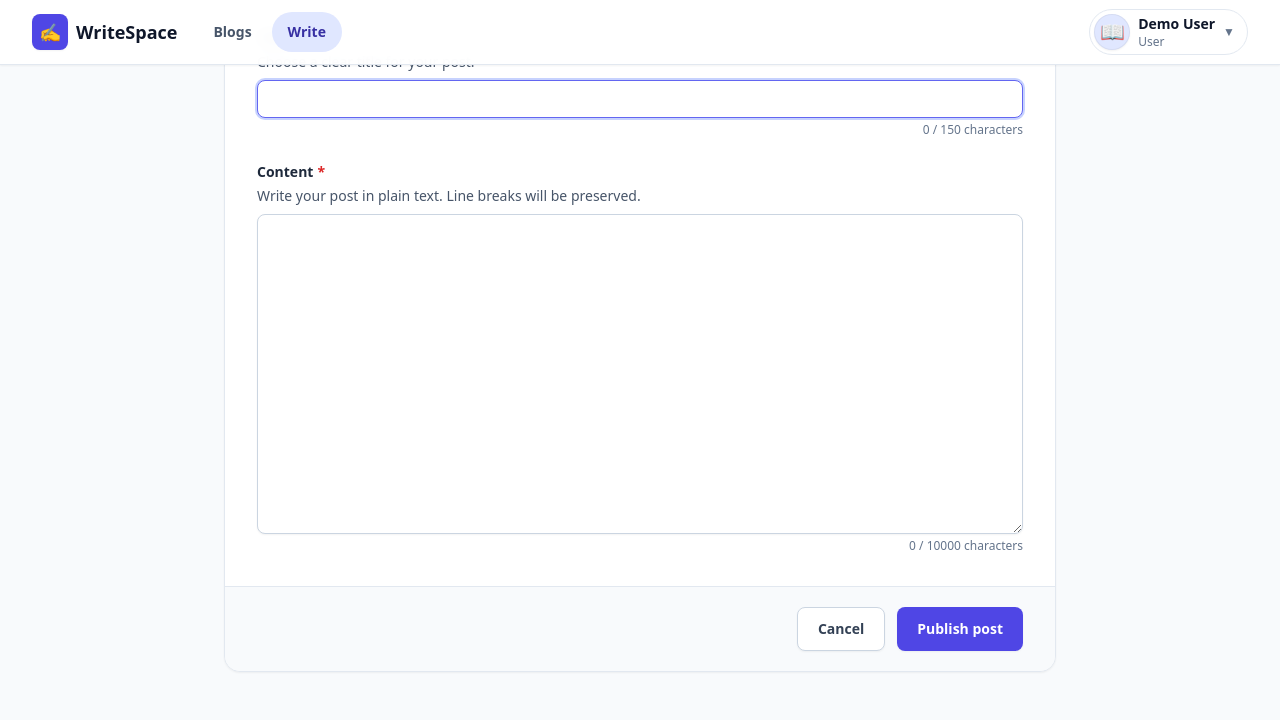
it: Blog feature flows › shows create validation errors and live character counters without saving
(page scrolled)
Click the button "Publish post". click: click(960, 629)
box: [897,607,1023,651]
(page scrolled)
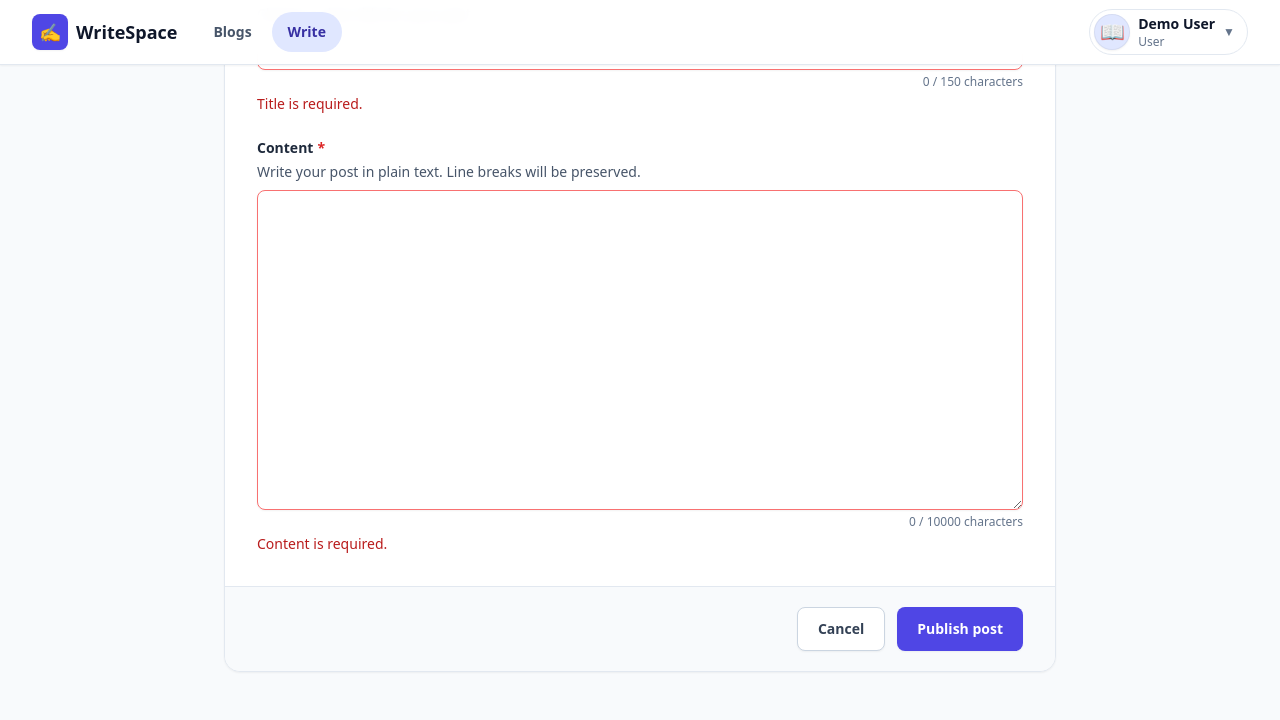
Now the text "Title is required." is shown, box [257,94,363,113]
Now the text "Content is required." is shown, box [257,534,387,553]
